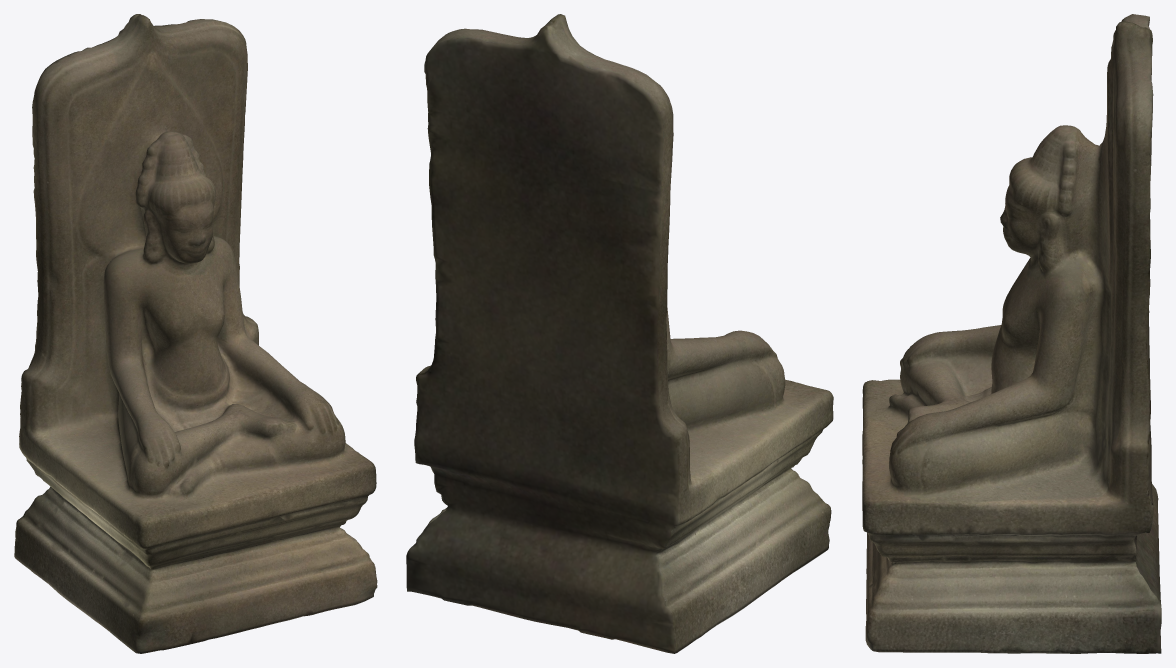
Rendered from 19_thanphuonghuong_isana_final.glb.
The picture shows the model from 3 angles, left to right: view 1: azimuth 30°, elevation 25°; view 2: azimuth 150°, elevation 25°; view 3: azimuth 270°, elevation 25°; orthographic projection. The views are drawn at different scales.
Size of the model in its own units: 0.3764 by 0.7769 by 0.3704.
1 material, 1 textured.
